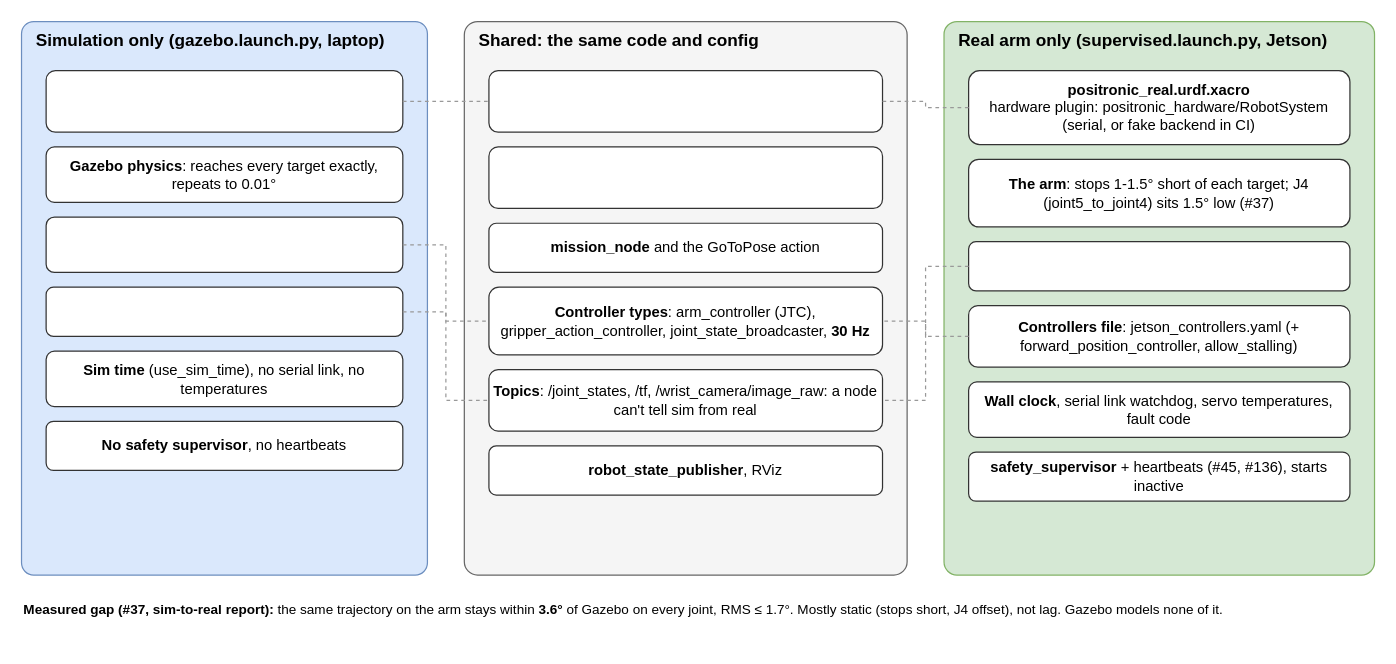
Some shapes in this 1396 by 664 pixel diagram are drawn without their labels. The shapes that lost their labels are listed below. From the top down, each one's centre as x and y in pixels, then its label:
(224,100): positronic_gazebo.urdf.xacro hardware plugin: gz_ros2_control/GazeboSimSystem
(685,100): positronic_description : links, joints, limits (the URDF both xacros build on)
(685,177): positronic_moveit_config + move_group: same planning, same controllers list
(224,244): Camera : Gazebo sensor + ros_gz parameter_bridge
(1158,265): Camera : wrist_camera.py on the same topics as Gazebo
(224,311): Controllers file : ros2_controllers.yaml
